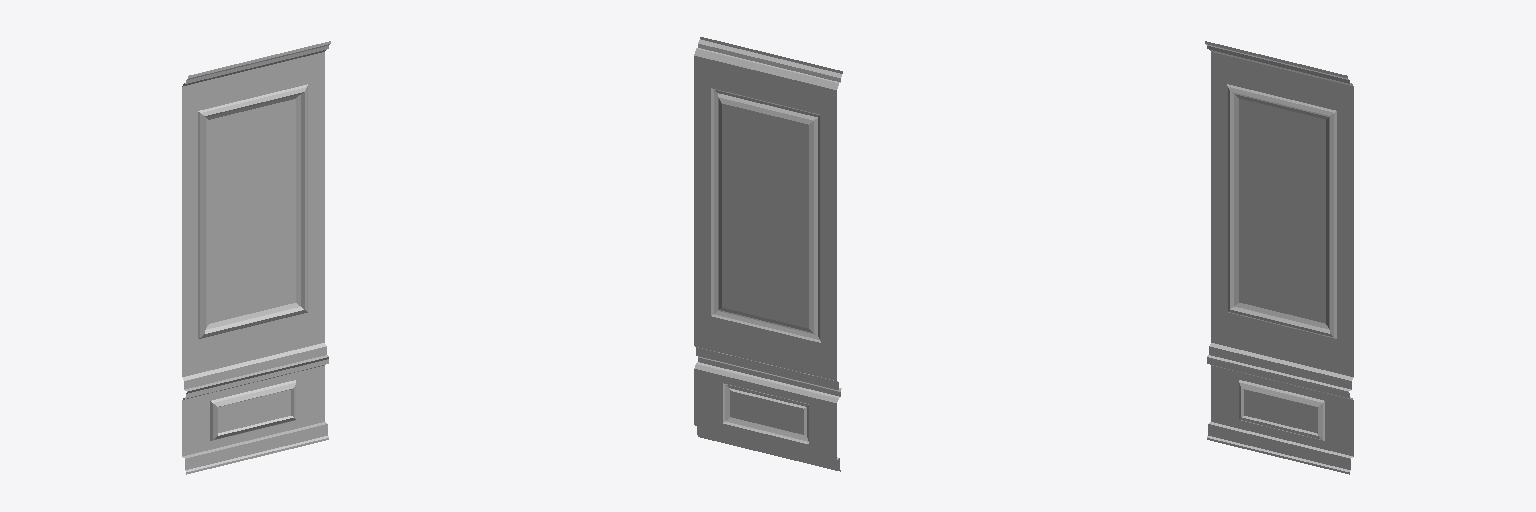
File: Wall_03.obj
3 views of the same model, side by side, from view 1: azimuth 30°, elevation 25°; view 2: azimuth 150°, elevation 25°; view 3: azimuth 330°, elevation 25° (orthographic).
Parts seen in each view (by area): view 1: Walls_Wall_03; view 2: Walls_Wall_03; view 3: Walls_Wall_03.
Boxes of the visible parts, x1=… form: Walls_Wall_03: x1=182, y1=41, x2=330, y2=474; Walls_Wall_03: x1=694, y1=37, x2=842, y2=471; Walls_Wall_03: x1=1205, y1=41, x2=1353, y2=474.
Size of the model in its own units: 150 by 401 by 11.56.